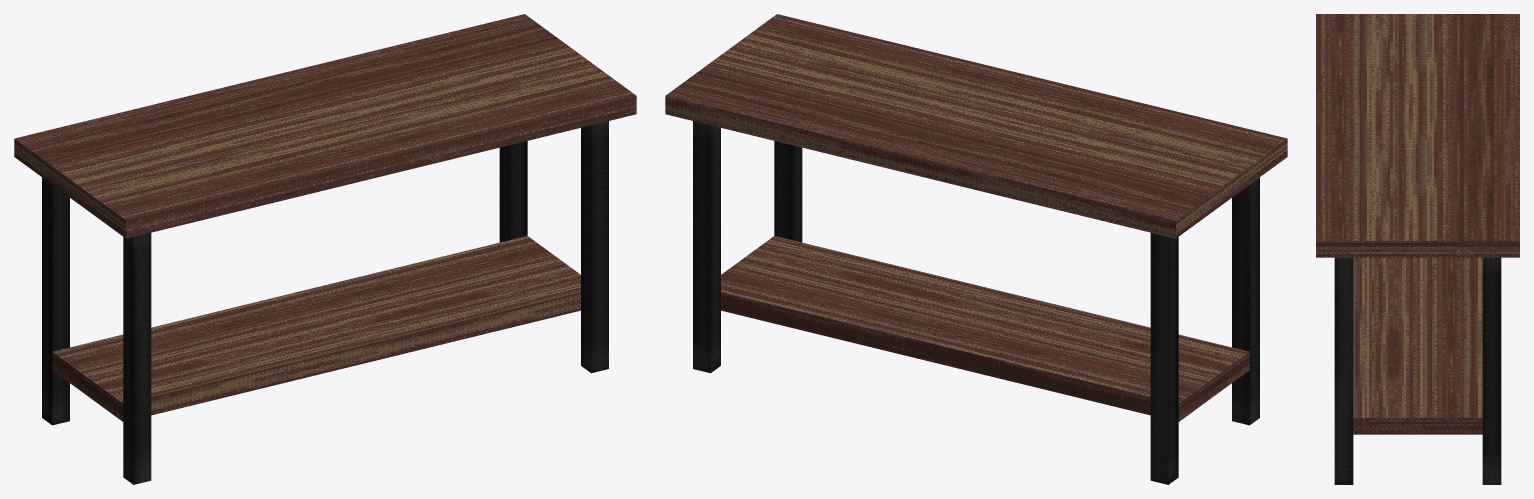
File: workbench.gltf
The picture shows the model from 3 angles, left to right: view 1: azimuth 30°, elevation 25°; view 2: azimuth 150°, elevation 25°; view 3: azimuth 270°, elevation 25°; orthographic projection. The views are drawn at different scales.
Parts seen in each view (by area): view 1: workbench_top; view 2: workbench_top; view 3: workbench_top.
Boxes of the visible parts, x1,y1,x2,y2 form: workbench_top: [14, 14, 636, 484]; workbench_top: [665, 14, 1287, 484]; workbench_top: [1316, 14, 1519, 484].
Bounding box in the file's own units: 1.81 × 0.9375 × 0.6875.
Materials: 1 (1 with a texture image).
